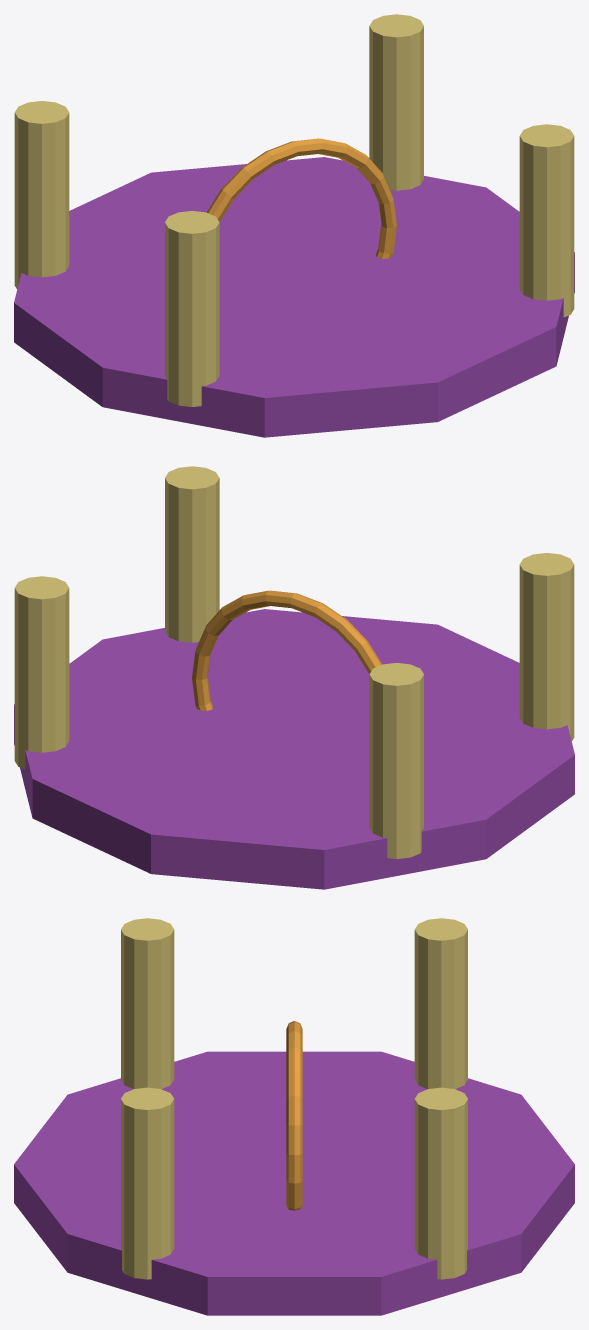
Rendered from abyss-chancel.glb.
The picture shows the model from 3 angles, top to bottom: view 1: azimuth 30°, elevation 25°; view 2: azimuth 150°, elevation 25°; view 3: azimuth 270°, elevation 25°; orthographic projection. The views are drawn at different scales.
Visible parts, largest first — view 1: chancel-floor, chancel-pillar-2, chancel-pillar-3, chancel-pillar-0, chancel-pillar-1, chancel-vow-seal; view 2: chancel-floor, chancel-pillar-0, chancel-pillar-1, chancel-pillar-2, chancel-pillar-3, chancel-vow-seal; view 3: chancel-floor, chancel-pillar-1, chancel-pillar-3, chancel-pillar-0, chancel-pillar-2, chancel-vow-seal.
Boxes of the visible parts, x1=… form: chancel-floor: x1=14, y1=157, x2=574, y2=437; chancel-pillar-2: x1=165, y1=211, x2=219, y2=406; chancel-pillar-3: x1=519, y1=124, x2=574, y2=317; chancel-pillar-0: x1=14, y1=101, x2=69, y2=289; chancel-pillar-1: x1=369, y1=14, x2=423, y2=190; chancel-vow-seal: x1=207, y1=138, x2=396, y2=258; chancel-floor: x1=14, y1=609, x2=574, y2=889; chancel-pillar-0: x1=369, y1=663, x2=423, y2=858; chancel-pillar-1: x1=14, y1=576, x2=69, y2=769; chancel-pillar-2: x1=519, y1=553, x2=574, y2=741; chancel-pillar-3: x1=165, y1=466, x2=219, y2=642; chancel-vow-seal: x1=192, y1=590, x2=381, y2=710; chancel-floor: x1=14, y1=1051, x2=574, y2=1315; chancel-pillar-1: x1=414, y1=1087, x2=467, y2=1279; chancel-pillar-3: x1=121, y1=1087, x2=174, y2=1279; chancel-pillar-0: x1=414, y1=918, x2=467, y2=1088; chancel-pillar-2: x1=121, y1=918, x2=174, y2=1088; chancel-vow-seal: x1=286, y1=1021, x2=302, y2=1210.
Size of the model in its own units: 2 by 0.93 by 2.1.
